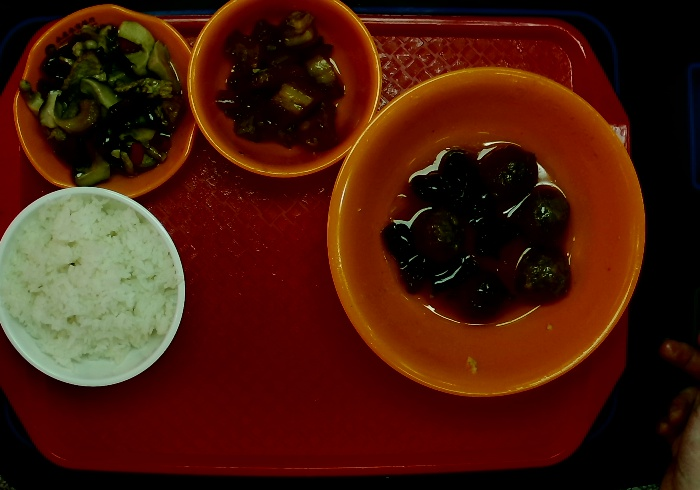YKMZ-Fan_Wan: (1, 182, 192, 390)
YKMZ-Ju_Se_Ao_Bian_Wan: (6, 1, 200, 205)
YKMZ-Ju_Se_Tang_Wan: (324, 63, 652, 404)
YKMZ-Ju_Se_Yuan_Wan: (181, 1, 386, 182)
